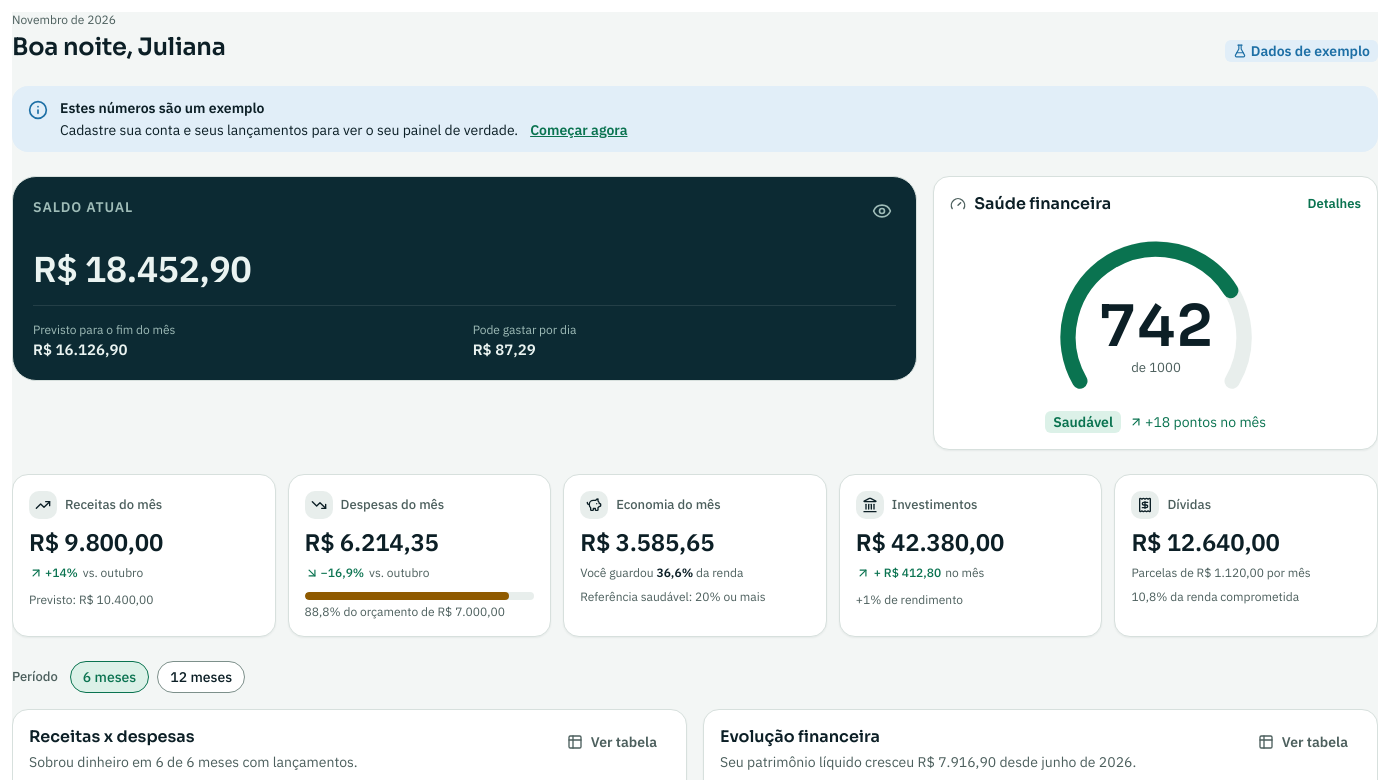
Scenario: Dashboard › oculta os valores em todo o painel
Expected: the heading "Receitas x despesas" is shown, [29,726,194,747]
Click the button named "Ocultar valores". click: (882, 211)
box: [860,189,904,233]
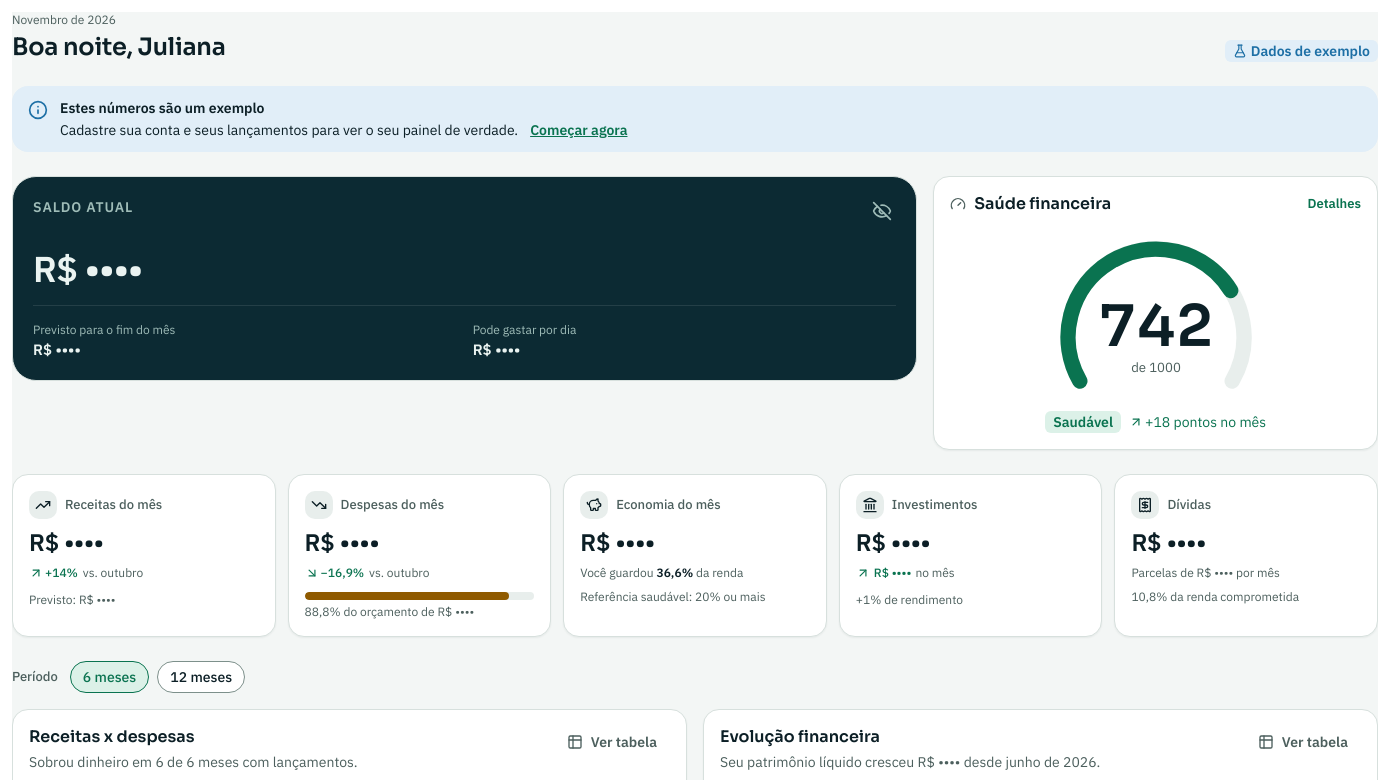
Result: the text "R$ 18.452,90" is gone
